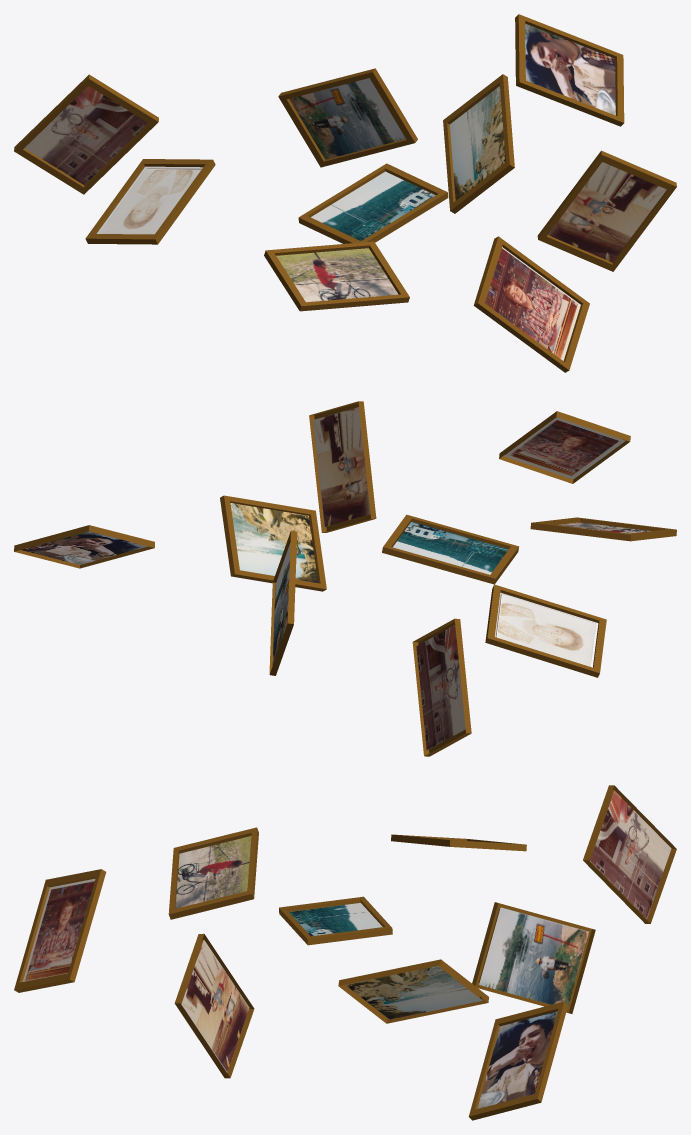
The model's file is frames.gltf.
The picture shows the model from 3 angles, top to bottom: view 1: azimuth 30°, elevation 25°; view 2: azimuth 150°, elevation 25°; view 3: azimuth 270°, elevation 25°; orthographic projection. The views are drawn at different scales.
Visible parts, largest first — view 1: 3, 1, 8, 9, 2, 4-4, 7, 6-6; view 2: 3, 6-6, 1, 9, 7, 2, 8, 4-4; view 3: 3, 8, 1, 2, 9, 4-4, 7, 6-6.
Boxes of the visible parts, box(x1,y1,x2,y2) form: 3: box(443, 74, 676, 271); 1: box(14, 74, 158, 194); 8: box(278, 68, 417, 167); 9: box(473, 236, 589, 372); 2: box(515, 14, 624, 126); 4-4: box(264, 241, 409, 311); 7: box(298, 163, 448, 243); 6-6: box(85, 159, 215, 244); 3: box(220, 401, 376, 591); 6-6: box(485, 584, 606, 677); 1: box(412, 618, 471, 756); 9: box(499, 411, 630, 483); 7: box(382, 514, 519, 584); 2: box(14, 525, 154, 568); 8: box(269, 530, 297, 675); 4-4: box(530, 517, 676, 541); 3: box(174, 933, 488, 1078); 8: box(472, 902, 595, 1013); 1: box(583, 785, 676, 923); 2: box(468, 1001, 567, 1120); 9: box(14, 869, 106, 992); 4-4: box(168, 827, 258, 919); 7: box(279, 896, 392, 945); 6-6: box(391, 834, 526, 851).
Size of the model in its own units: 171 by 38.34 by 172.
Materials: 18 (9 with a texture image).
